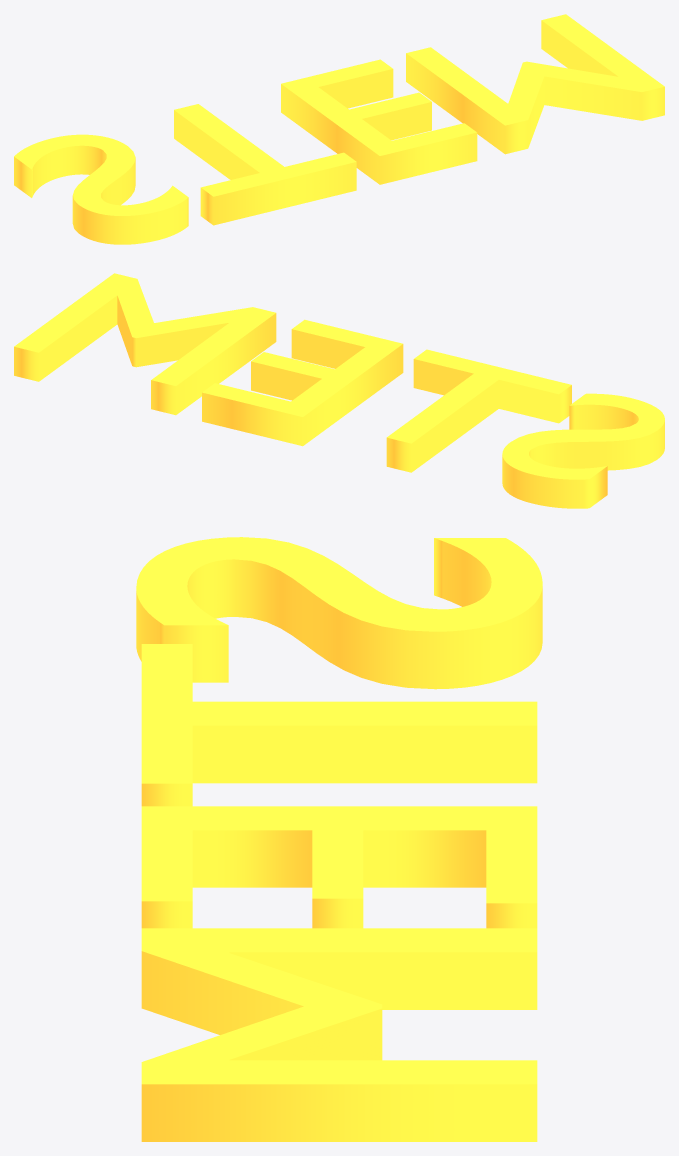
The model's file is STEM.glb.
3 views of the same model, one above another, from view 1: azimuth 30°, elevation 25°; view 2: azimuth 150°, elevation 25°; view 3: azimuth 270°, elevation 25° (orthographic). The views are drawn at different scales.
Parts seen in each view (by area): view 1: LABEL_STEM; view 2: LABEL_STEM; view 3: LABEL_STEM.
Part boxes in pixels (x1,y1,x2,y2): LABEL_STEM: [14, 14, 664, 244]; LABEL_STEM: [14, 273, 664, 508]; LABEL_STEM: [136, 537, 542, 1141].
Size of the model in its own units: 0.1227 by 0.006 by 0.0385.
